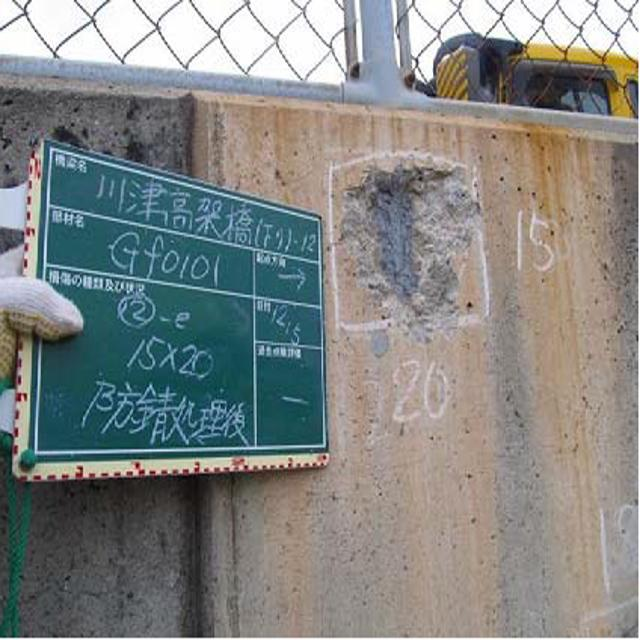spalling: (334, 147, 496, 327)
